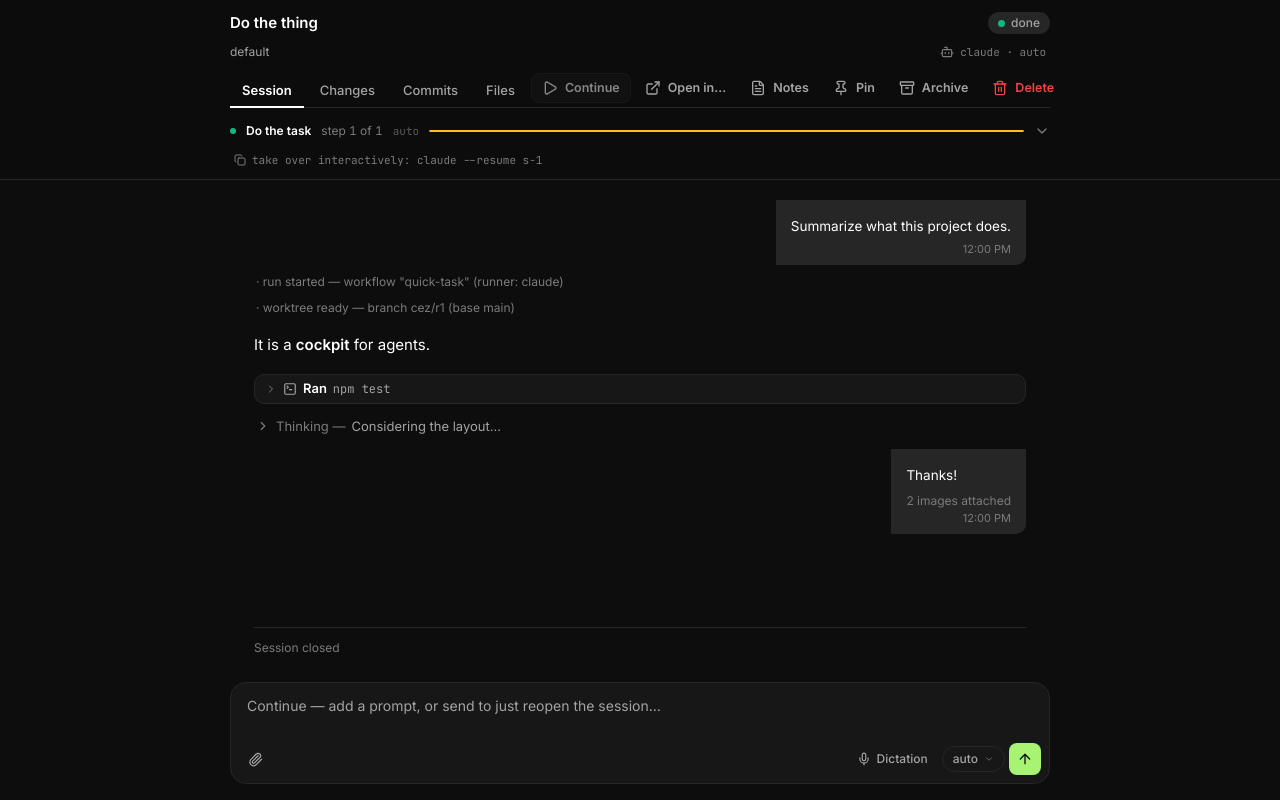
Test: ThreadView › closed but resumable → the composer stays enabled, and sending is Continue
Expected: the text box named "Reply to the agent" is enabled, [231, 683, 1049, 737]
Expected: the button named "Continue" is enabled, [1009, 743, 1041, 775]
Press the mouse on the button with aria-label "Agent:" at (993, 52), box [936, 40, 1050, 63]
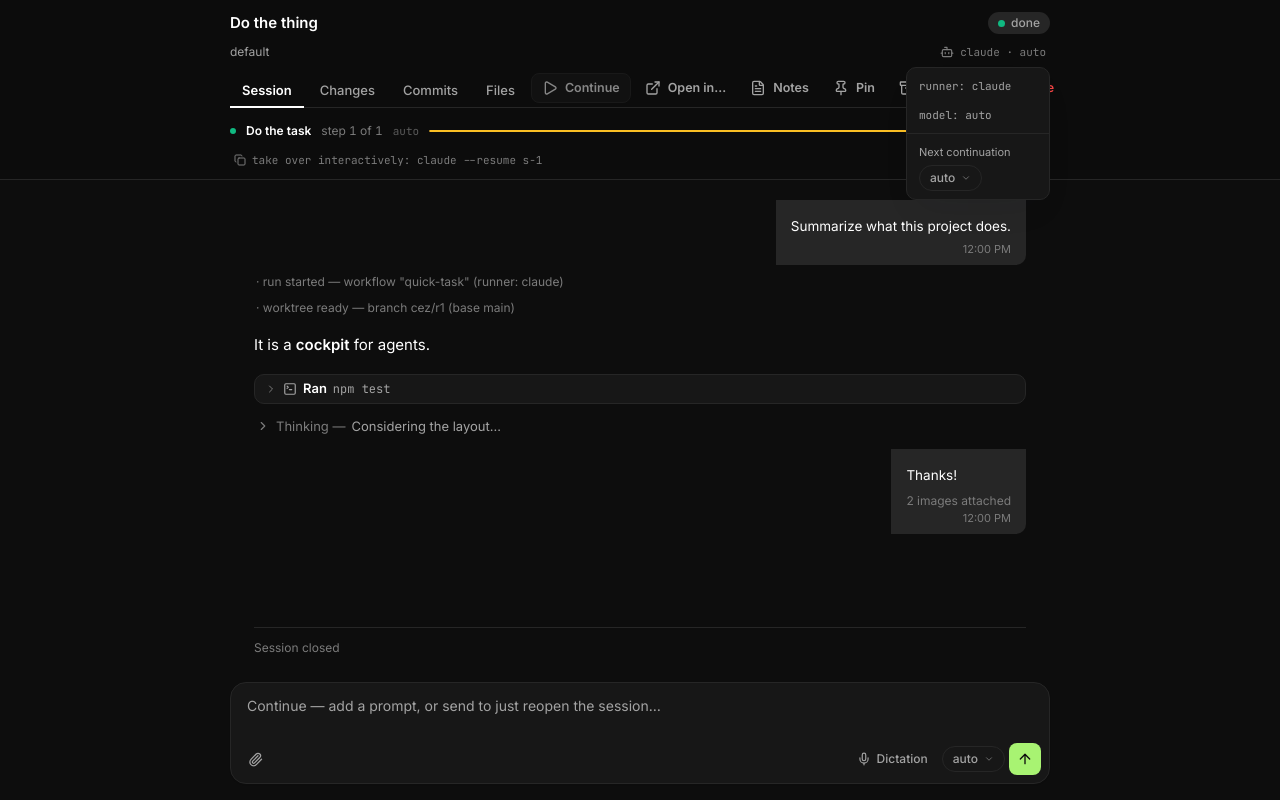
Now the button "auto" below "Next continuation" is shown
Press the mouse on the button "auto" below "Next continuation" at (951, 178), box [919, 164, 982, 190]
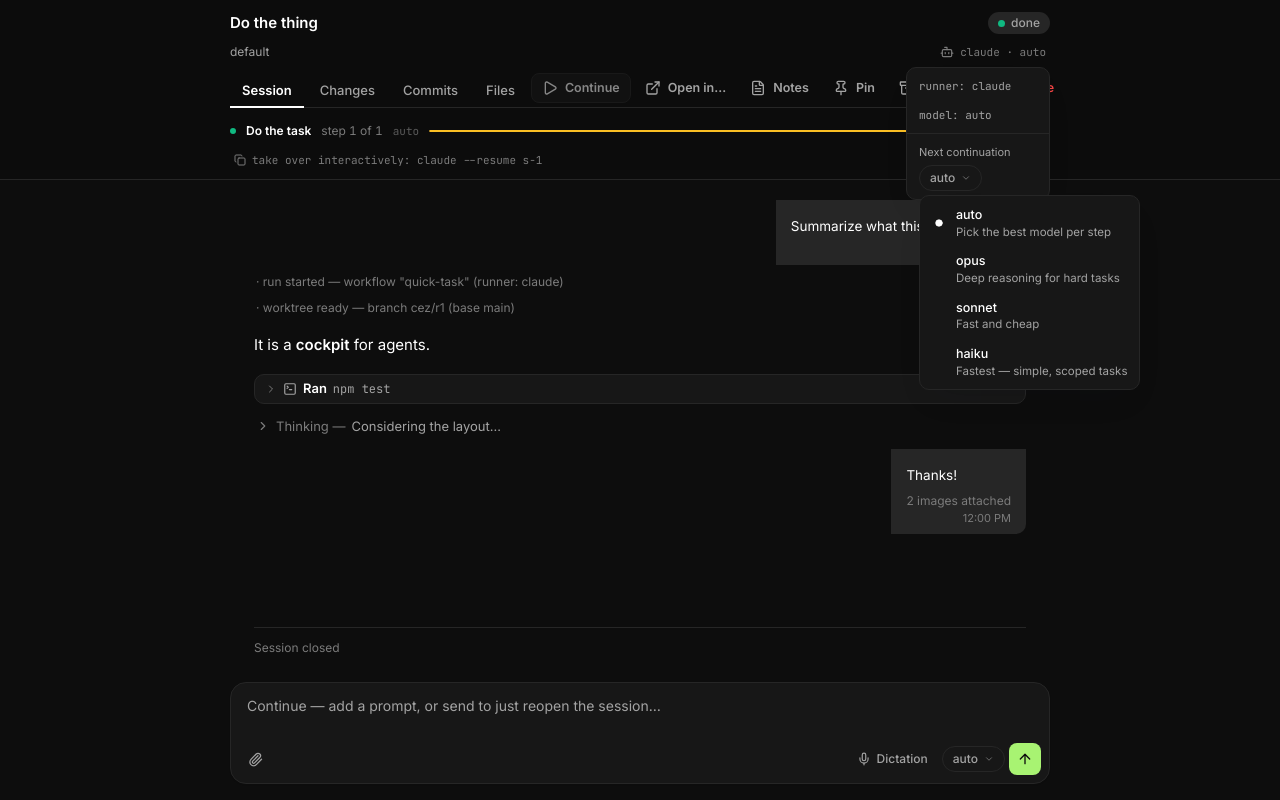
Now the menu item "opus Deep reasoning for hard tasks" is shown
Click the menu item "opus Deep reasoning for hard tasks" at (1038, 269), box [956, 253, 1120, 285]
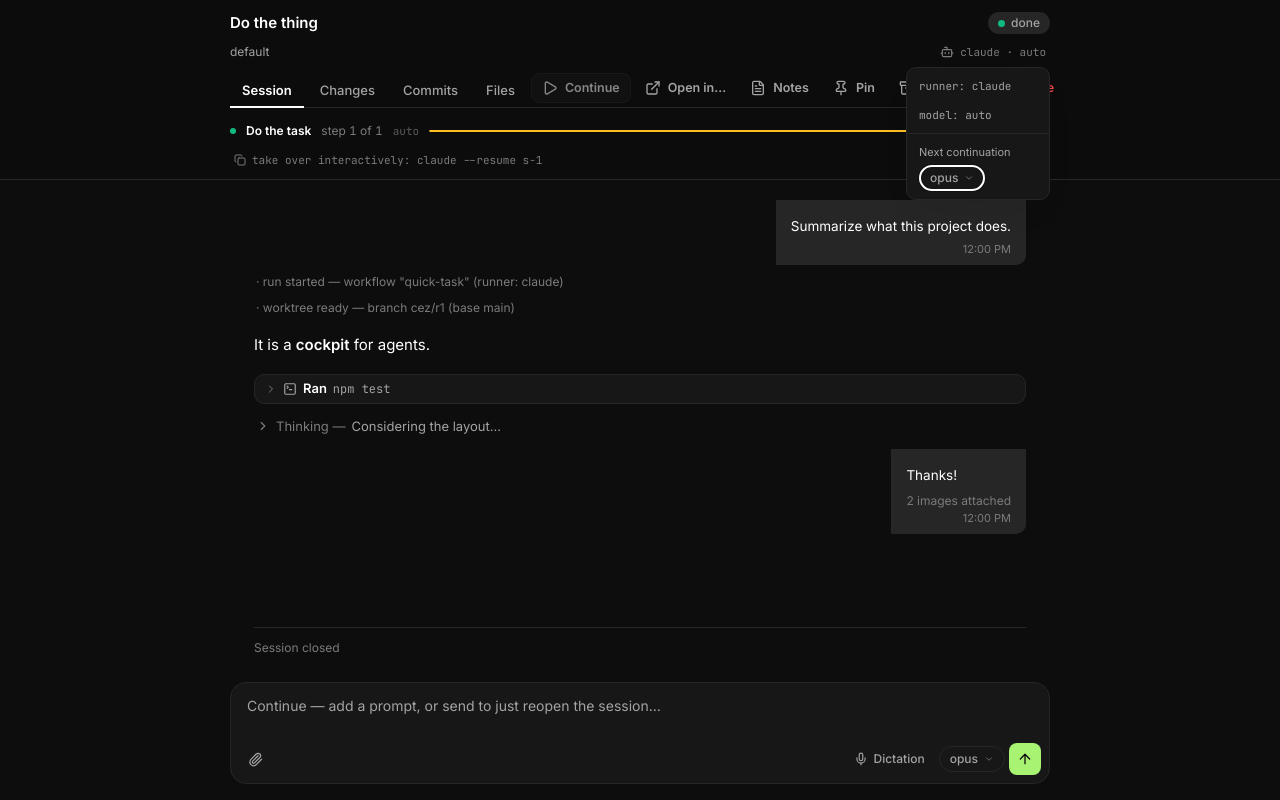
Now the button with aria-label "Model" reads "opus", box [919, 164, 985, 190]
